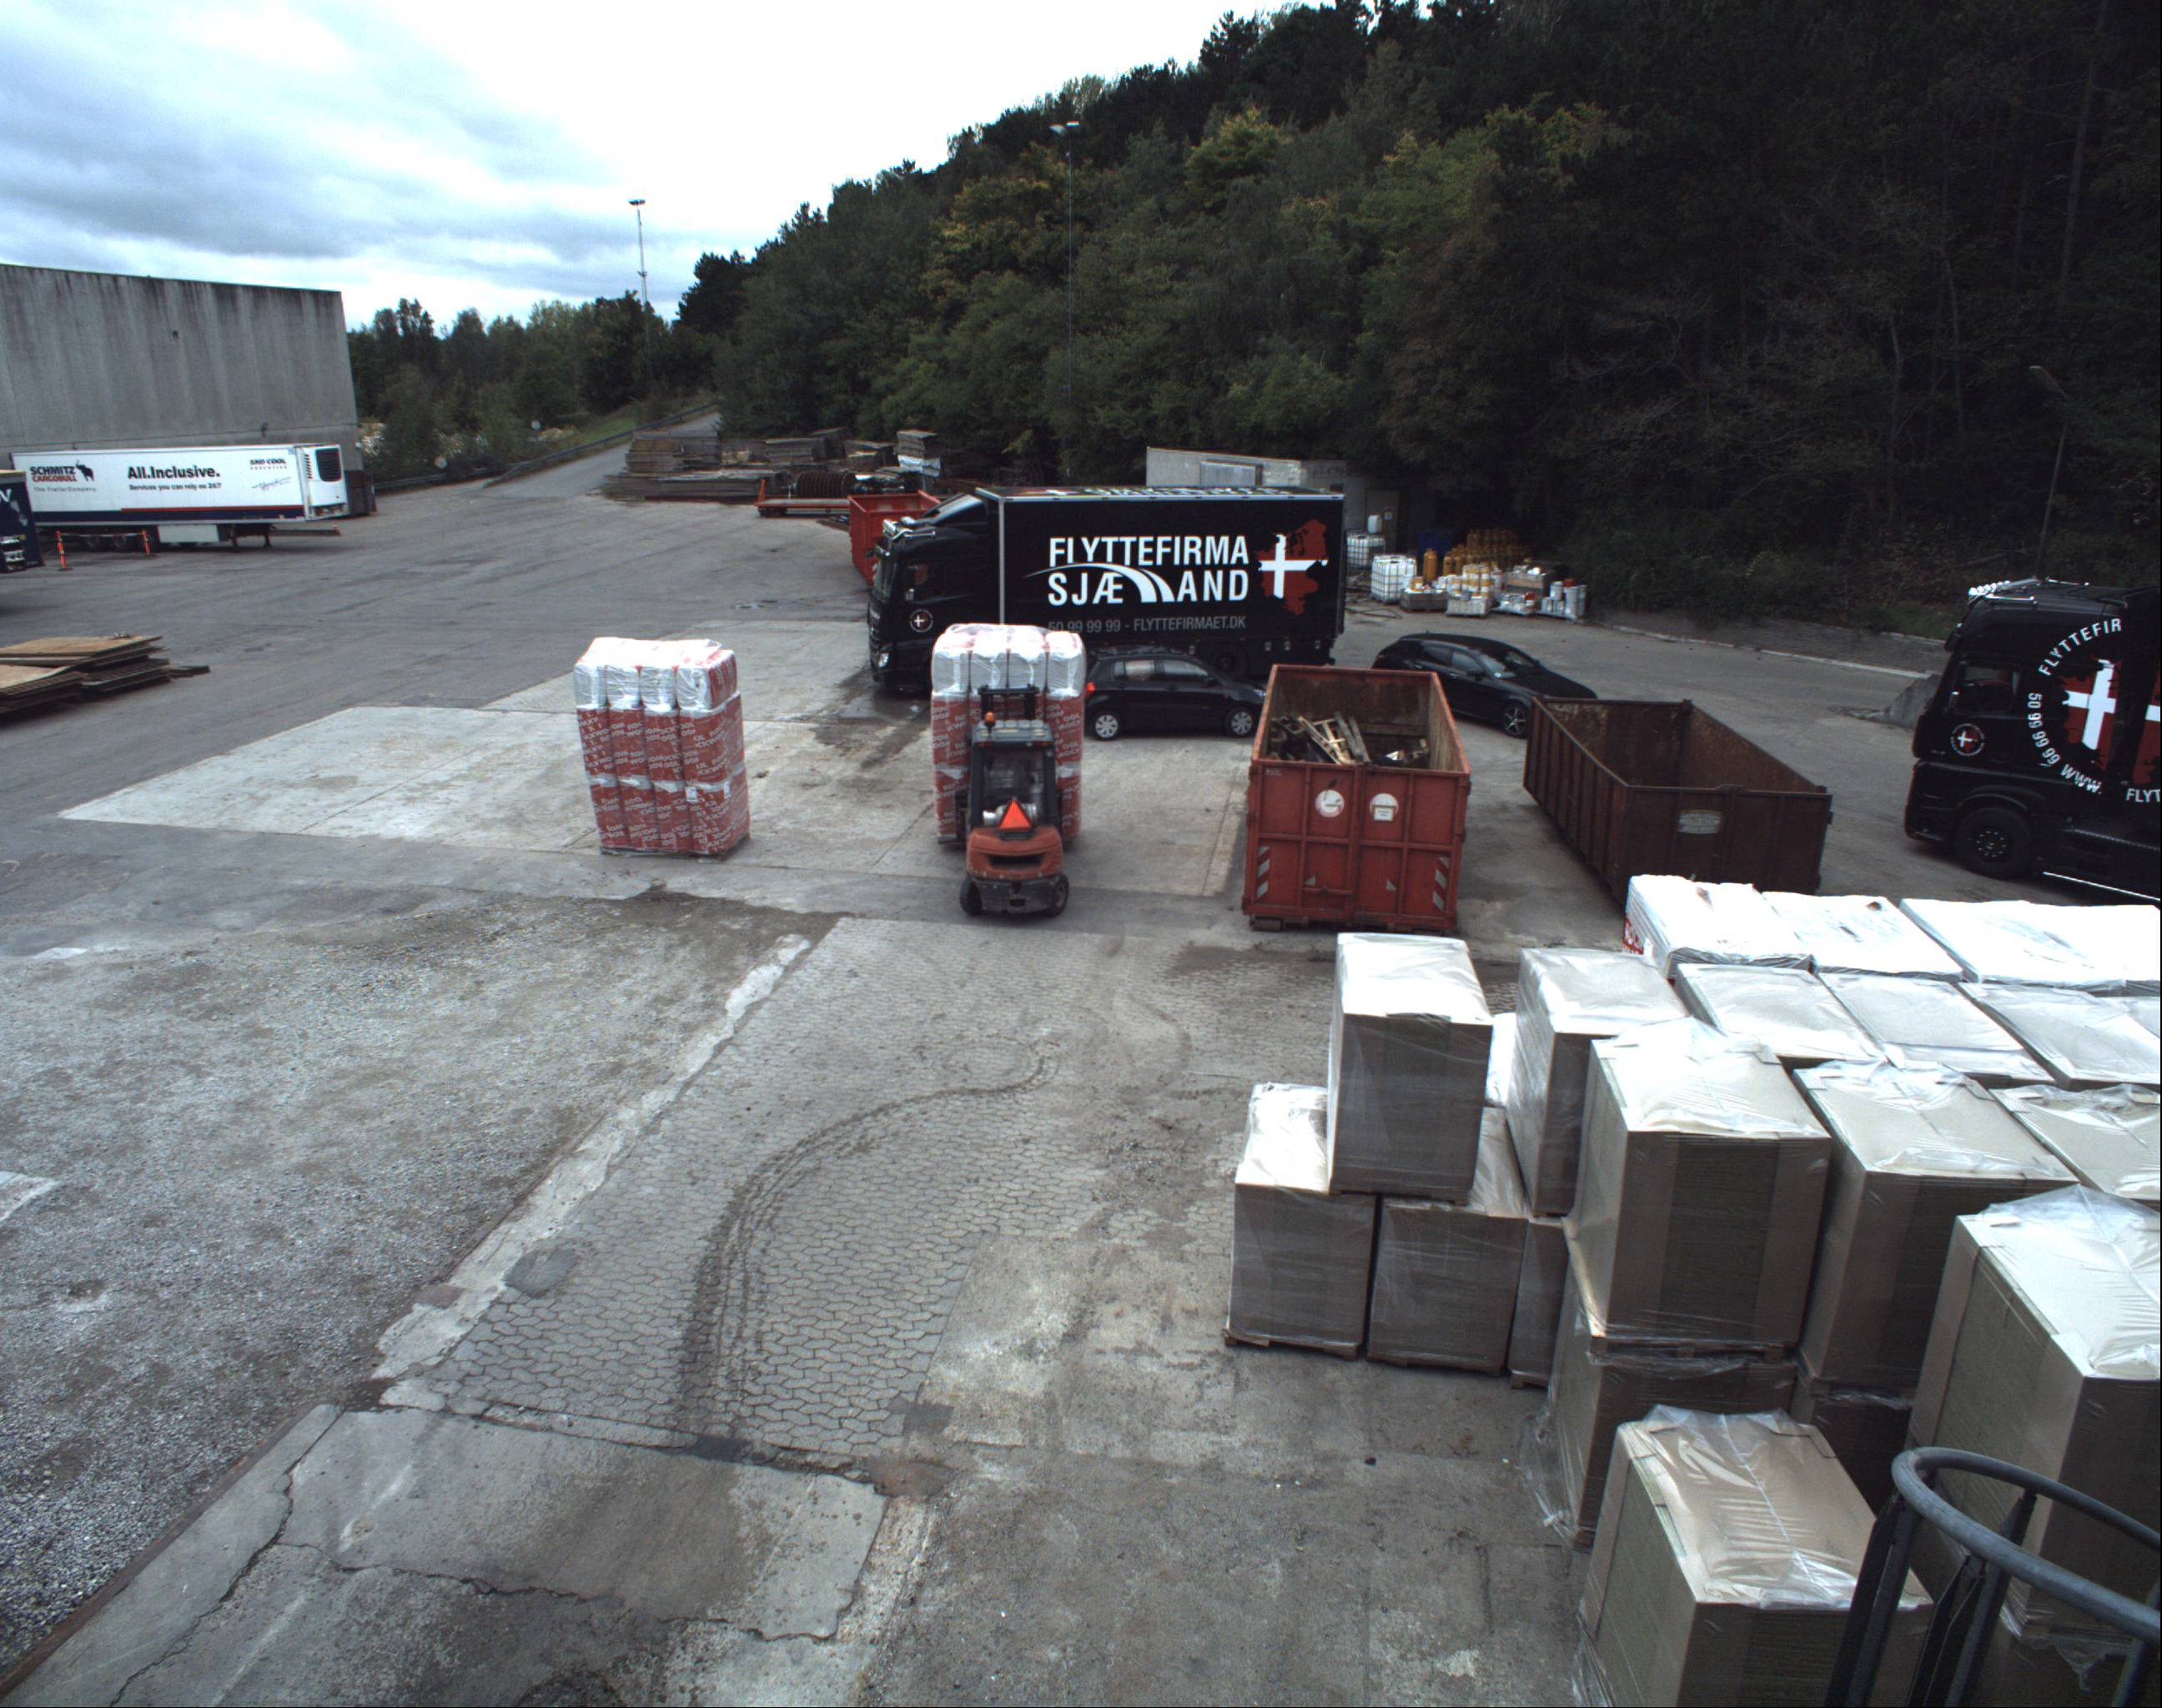rockwool_batts: (572, 621, 744, 853), (923, 614, 1081, 832)
